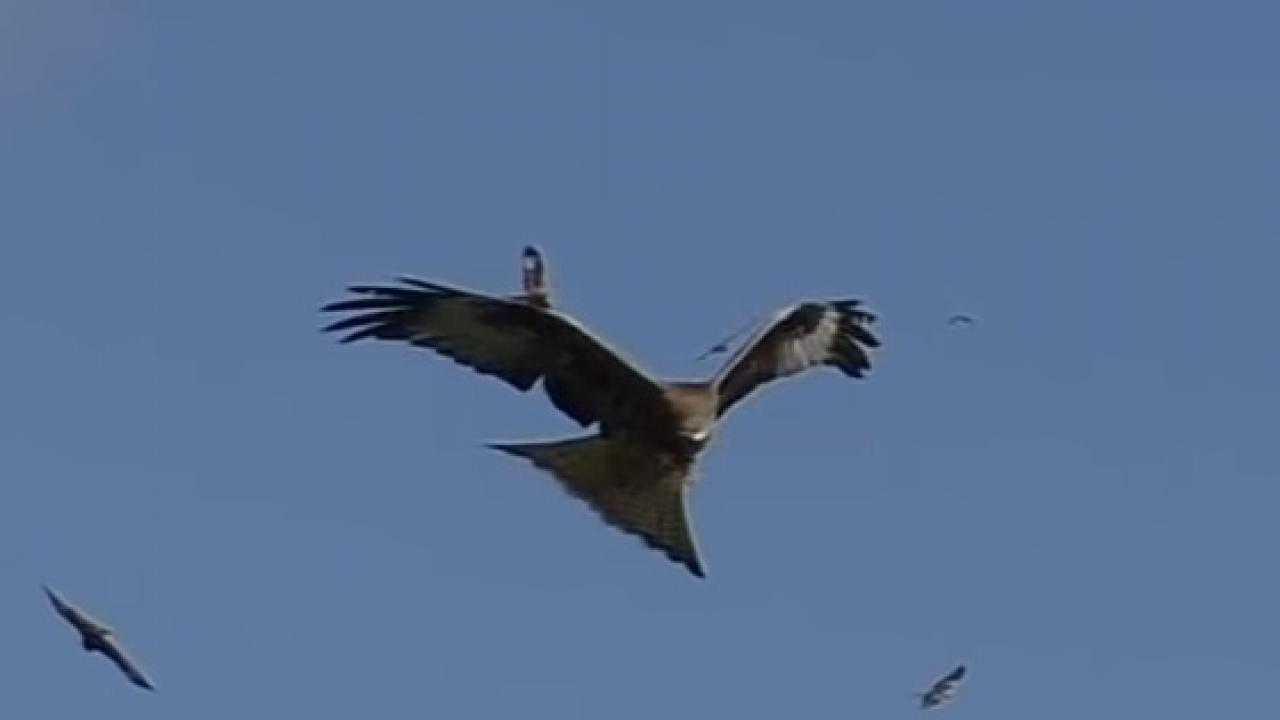Bird: (305, 262, 892, 586), (37, 574, 165, 702), (904, 656, 976, 717)
